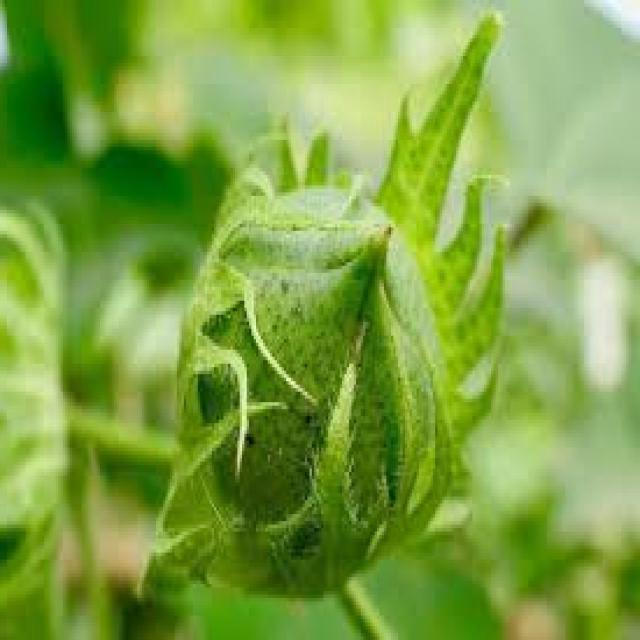Early Boll: (156, 112, 511, 593)
